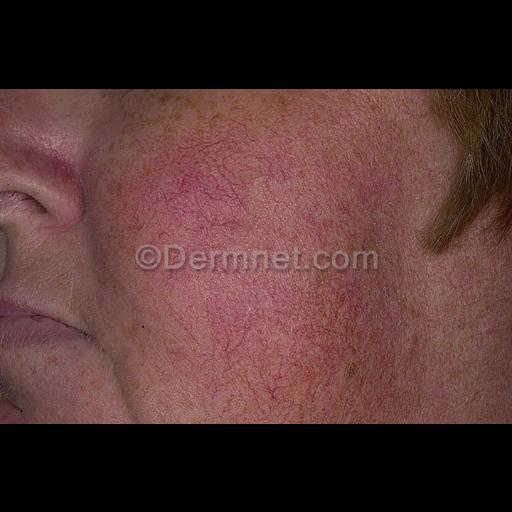Skin_Lesion: (186, 282, 292, 396), (150, 138, 246, 248), (266, 148, 358, 244), (306, 286, 384, 394), (132, 312, 156, 338)
